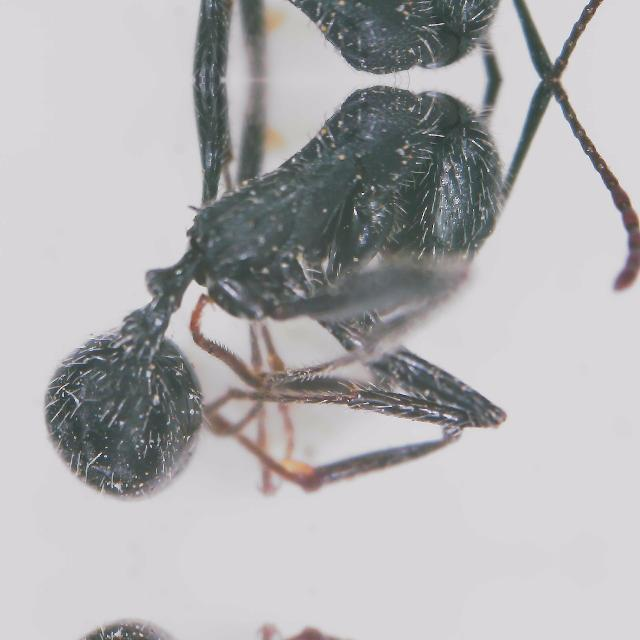Apheanogaster: (16, 83, 602, 540)
